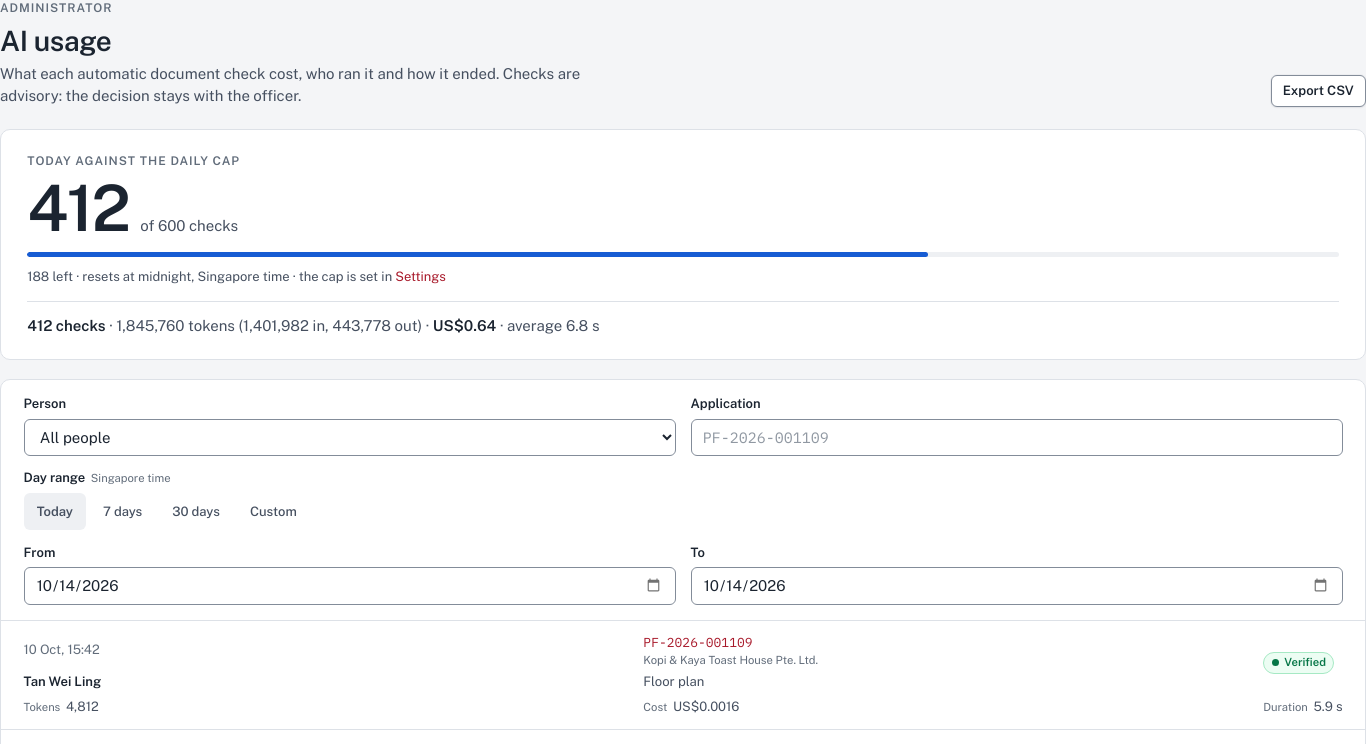
Scenario: AI usage (US-100) › says so when the export fails
The width and height of the screenshot is (1366, 744).
Step 1. Click the button "Export CSV" → click(1318, 91), box [1270,75,1365,107]
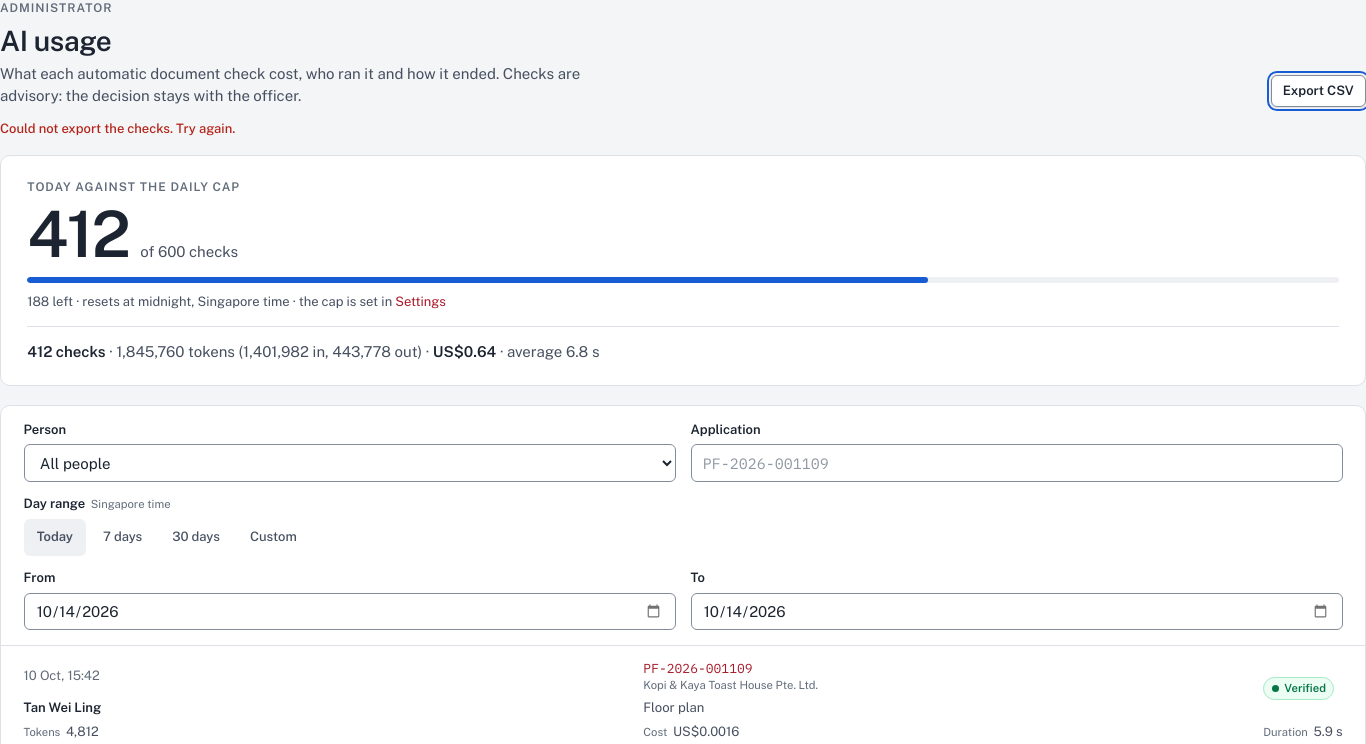
expect the message reads "Could not export the checks. Try again.": met, box [0,121,235,136]
